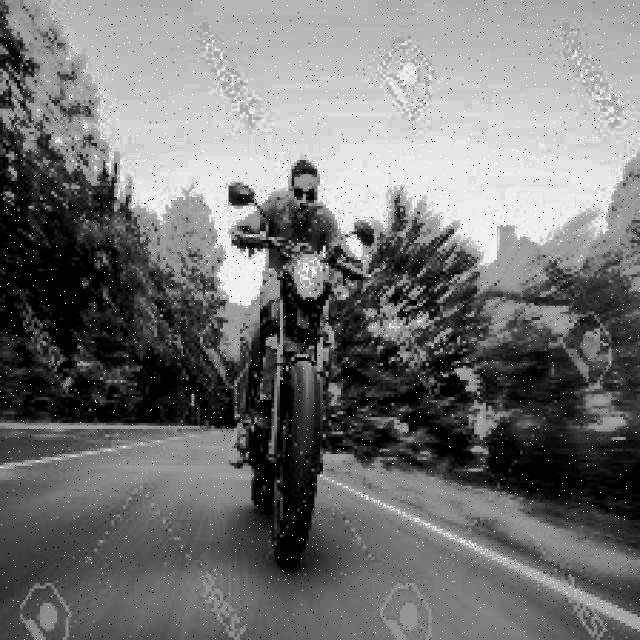Bike: (233, 222, 341, 543)
